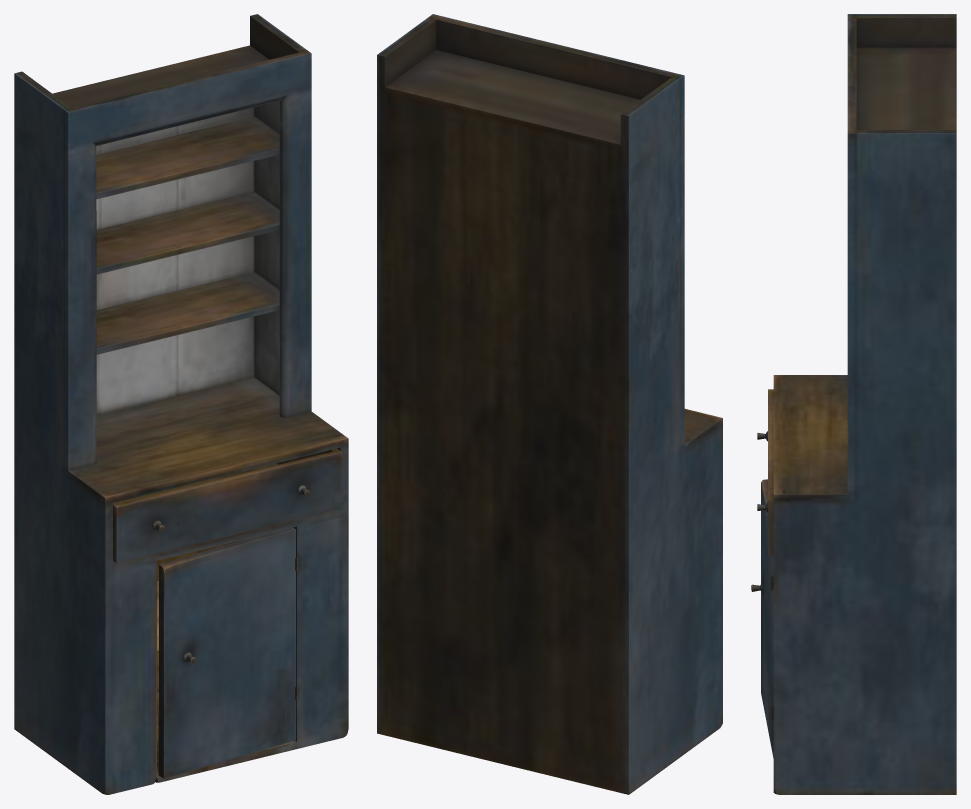
The model's file is wardrobe.glb.
The picture shows the model from 3 angles, left to right: view 1: azimuth 30°, elevation 25°; view 2: azimuth 150°, elevation 25°; view 3: azimuth 270°, elevation 25°; orthographic projection. The views are drawn at different scales.
Parts seen in each view (by area): view 1: painted_wooden_cabinet_02, painted_wooden_cabinet_02_door, painted_wooden_cabinet_02_drawer; view 2: painted_wooden_cabinet_02; view 3: painted_wooden_cabinet_02, painted_wooden_cabinet_02_door, painted_wooden_cabinet_02_drawer.
Part boxes in pixels (x1,y1,x2,y2): painted_wooden_cabinet_02: [14, 14, 348, 794]; painted_wooden_cabinet_02_door: [158, 527, 295, 778]; painted_wooden_cabinet_02_drawer: [113, 448, 342, 563]; painted_wooden_cabinet_02: [377, 14, 722, 794]; painted_wooden_cabinet_02: [770, 14, 956, 794]; painted_wooden_cabinet_02_door: [751, 479, 773, 758]; painted_wooden_cabinet_02_drawer: [757, 389, 773, 556].
Size of the model in its own units: 0.7763 by 2 by 0.5624.
Materials: 1 (1 with a texture image).
